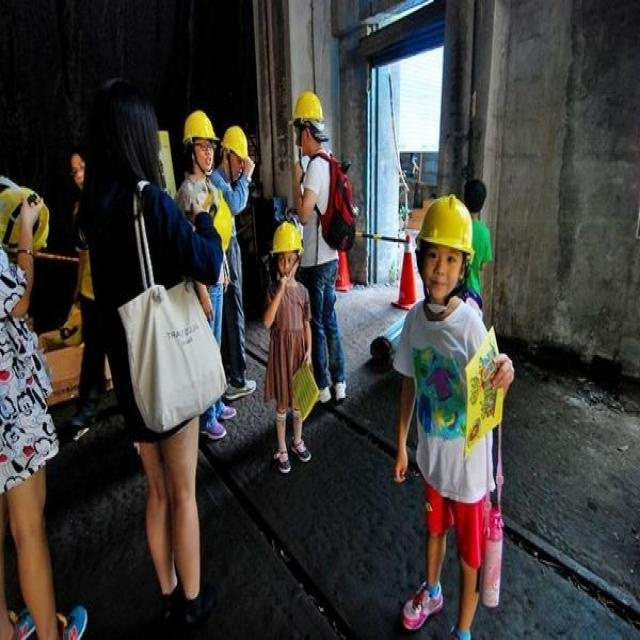Con_Casco: (413, 196, 469, 298)
